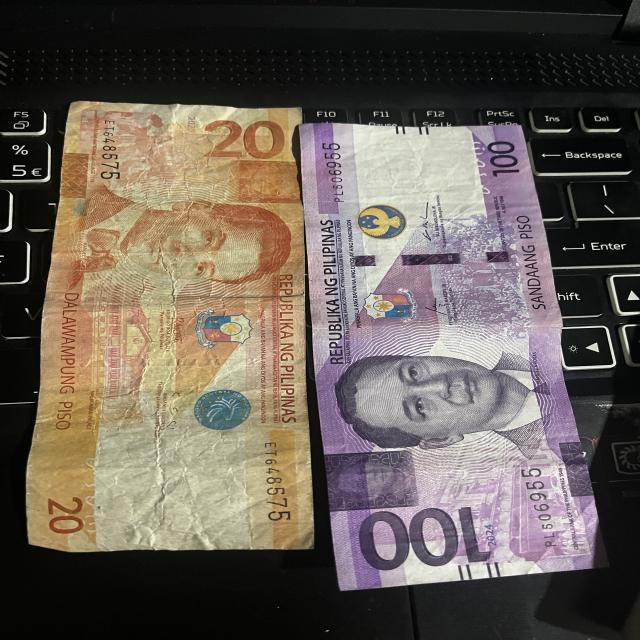concealed_value: (320, 447, 420, 508), (228, 158, 306, 203)
security_thread: (313, 251, 546, 267)
serial_number: (511, 462, 566, 558), (256, 437, 302, 527), (310, 136, 352, 214), (92, 118, 134, 184)
value: (358, 496, 496, 574), (192, 114, 288, 164)
watermark: (124, 430, 249, 526), (354, 140, 481, 206)
